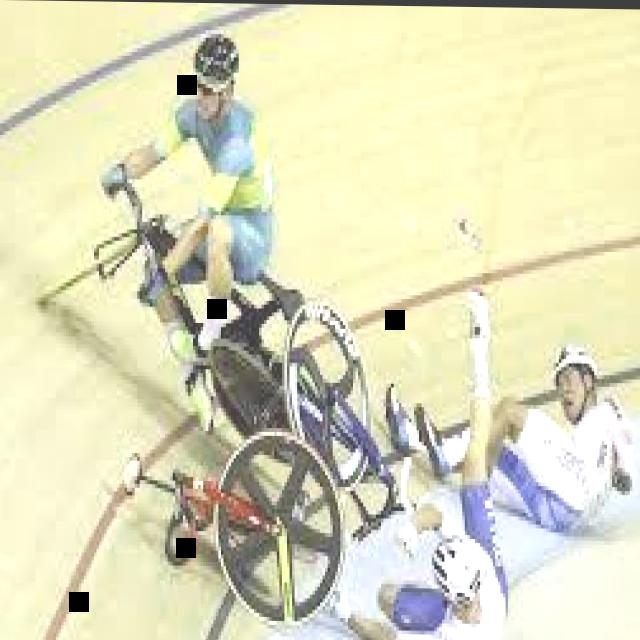Fall-Detected: (402, 286, 640, 547)
